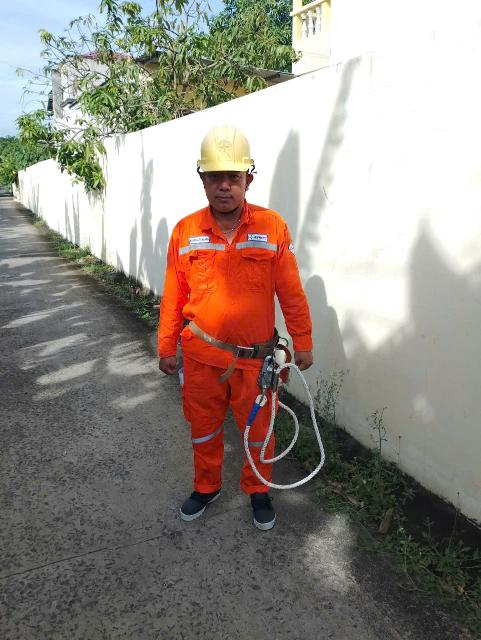harness: (179, 315, 291, 370)
helmet: (194, 122, 259, 183)
shoes: (236, 480, 286, 535), (178, 476, 223, 532)
